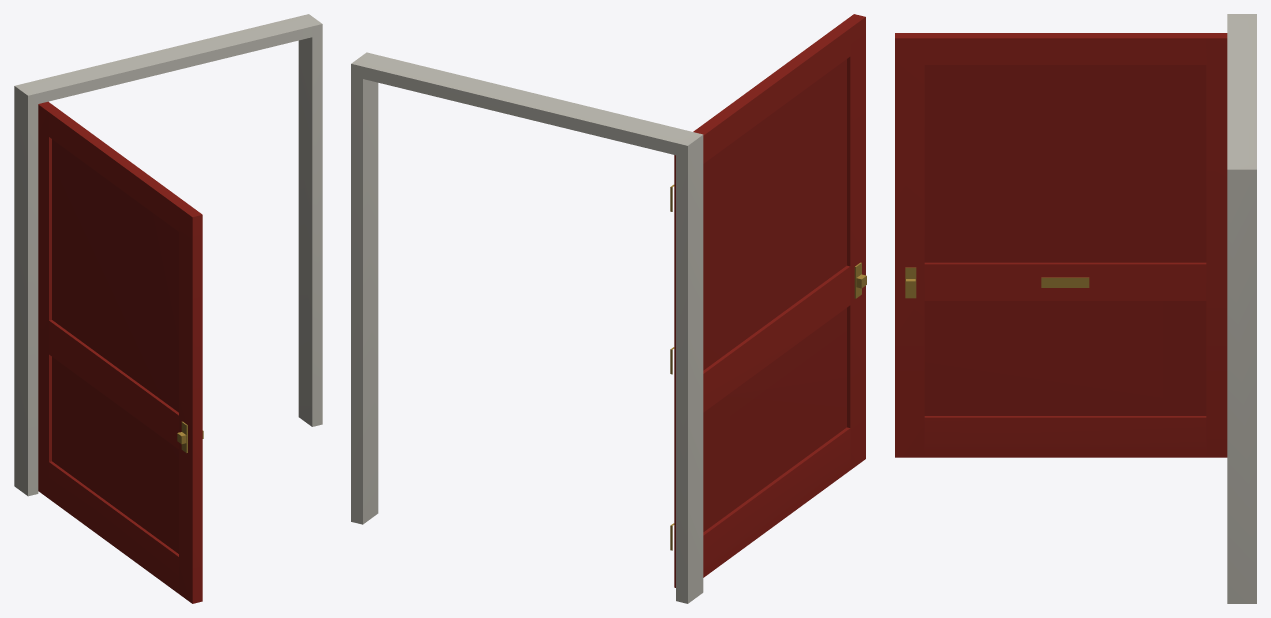
Rendered from door.painted_open.red.glb.
3 renders of one model, left to right at view 1: azimuth 30°, elevation 25°; view 2: azimuth 150°, elevation 25°; view 3: azimuth 270°, elevation 25°, orthographic. The views are drawn at different scales.
Visible parts, largest first — view 1: door_painted_open_red; view 2: door_painted_open_red; view 3: door_painted_open_red.
Boxes of the visible parts, x1,y1,x2,y2 form: door_painted_open_red: (14, 14, 322, 603); door_painted_open_red: (351, 14, 866, 603); door_painted_open_red: (895, 14, 1256, 603).
Size of what is drawn, in the model's own units: 2 by 2.6 by 1.96.
